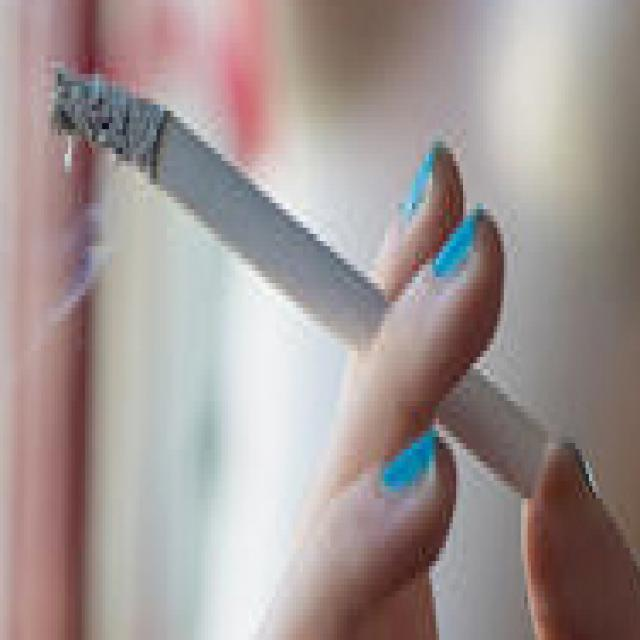smoking: (48, 75, 609, 501)
